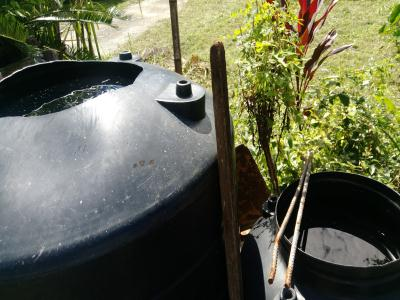bucket: (1, 48, 220, 299), (271, 169, 399, 299)
